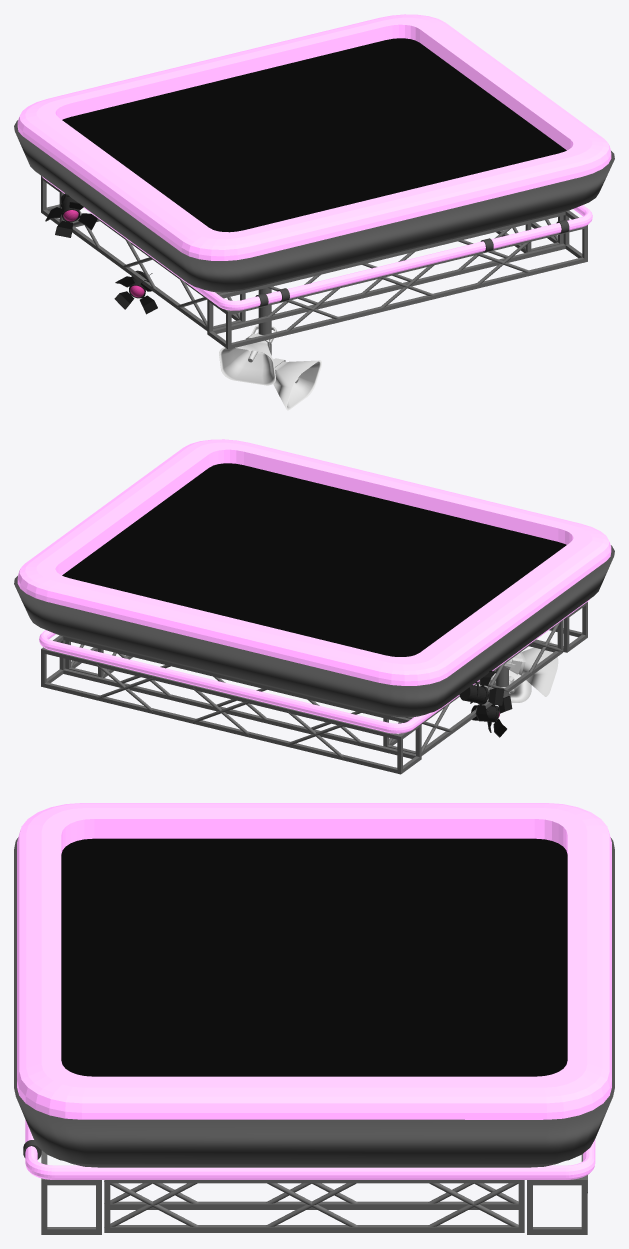
File: Subflatform_Right_Down.fbx
3 renders of one model, top to bottom at view 1: azimuth 30°, elevation 25°; view 2: azimuth 150°, elevation 25°; view 3: azimuth 270°, elevation 25°, orthographic. The views are drawn at different scales.
Visible parts, largest first — view 1: Cube.004, Cube.005, Cylinder.006, Torus.001, Cube.009, Cube.007, Cube.006, Light1.006, Light1.007; view 2: Cube.004, Cube.005, Cylinder.017, Torus.001, Cube.009, Cube.007, Light1.006, Cylinder.006, Light1.007, Cube.006; view 3: Cube.004, Cube.005, Cylinder.019, Torus.001, Cylinder.006, Cylinder.017.
Part boxes in pixels (x1,y1,x2,y2): Cube.004: [17, 14, 611, 260]; Cube.005: [14, 120, 614, 292]; Cylinder.006: [207, 210, 587, 349]; Torus.001: [42, 176, 592, 310]; Cube.009: [70, 210, 245, 330]; Cube.007: [219, 325, 276, 385]; Cube.006: [272, 358, 321, 410]; Light1.006: [45, 193, 97, 237]; Light1.007: [114, 270, 157, 314]; Cube.004: [17, 439, 611, 685]; Cube.005: [14, 545, 614, 717]; Cylinder.017: [41, 635, 421, 774]; Torus.001: [39, 599, 589, 733]; Cube.009: [383, 620, 563, 755]; Cube.007: [504, 641, 558, 696]; Light1.006: [459, 671, 504, 721]; Cylinder.006: [535, 602, 587, 652]; Light1.007: [471, 695, 512, 737]; Cube.006: [475, 670, 531, 702]; Cube.004: [17, 803, 611, 1119]; Cube.005: [14, 837, 614, 1167]; Cylinder.019: [104, 1180, 524, 1232]; Torus.001: [25, 1119, 595, 1179]; Cylinder.006: [41, 1150, 101, 1234]; Cylinder.017: [527, 1154, 587, 1234].
Bounding box in the file's own units: 2463 × 995 × 1979.
